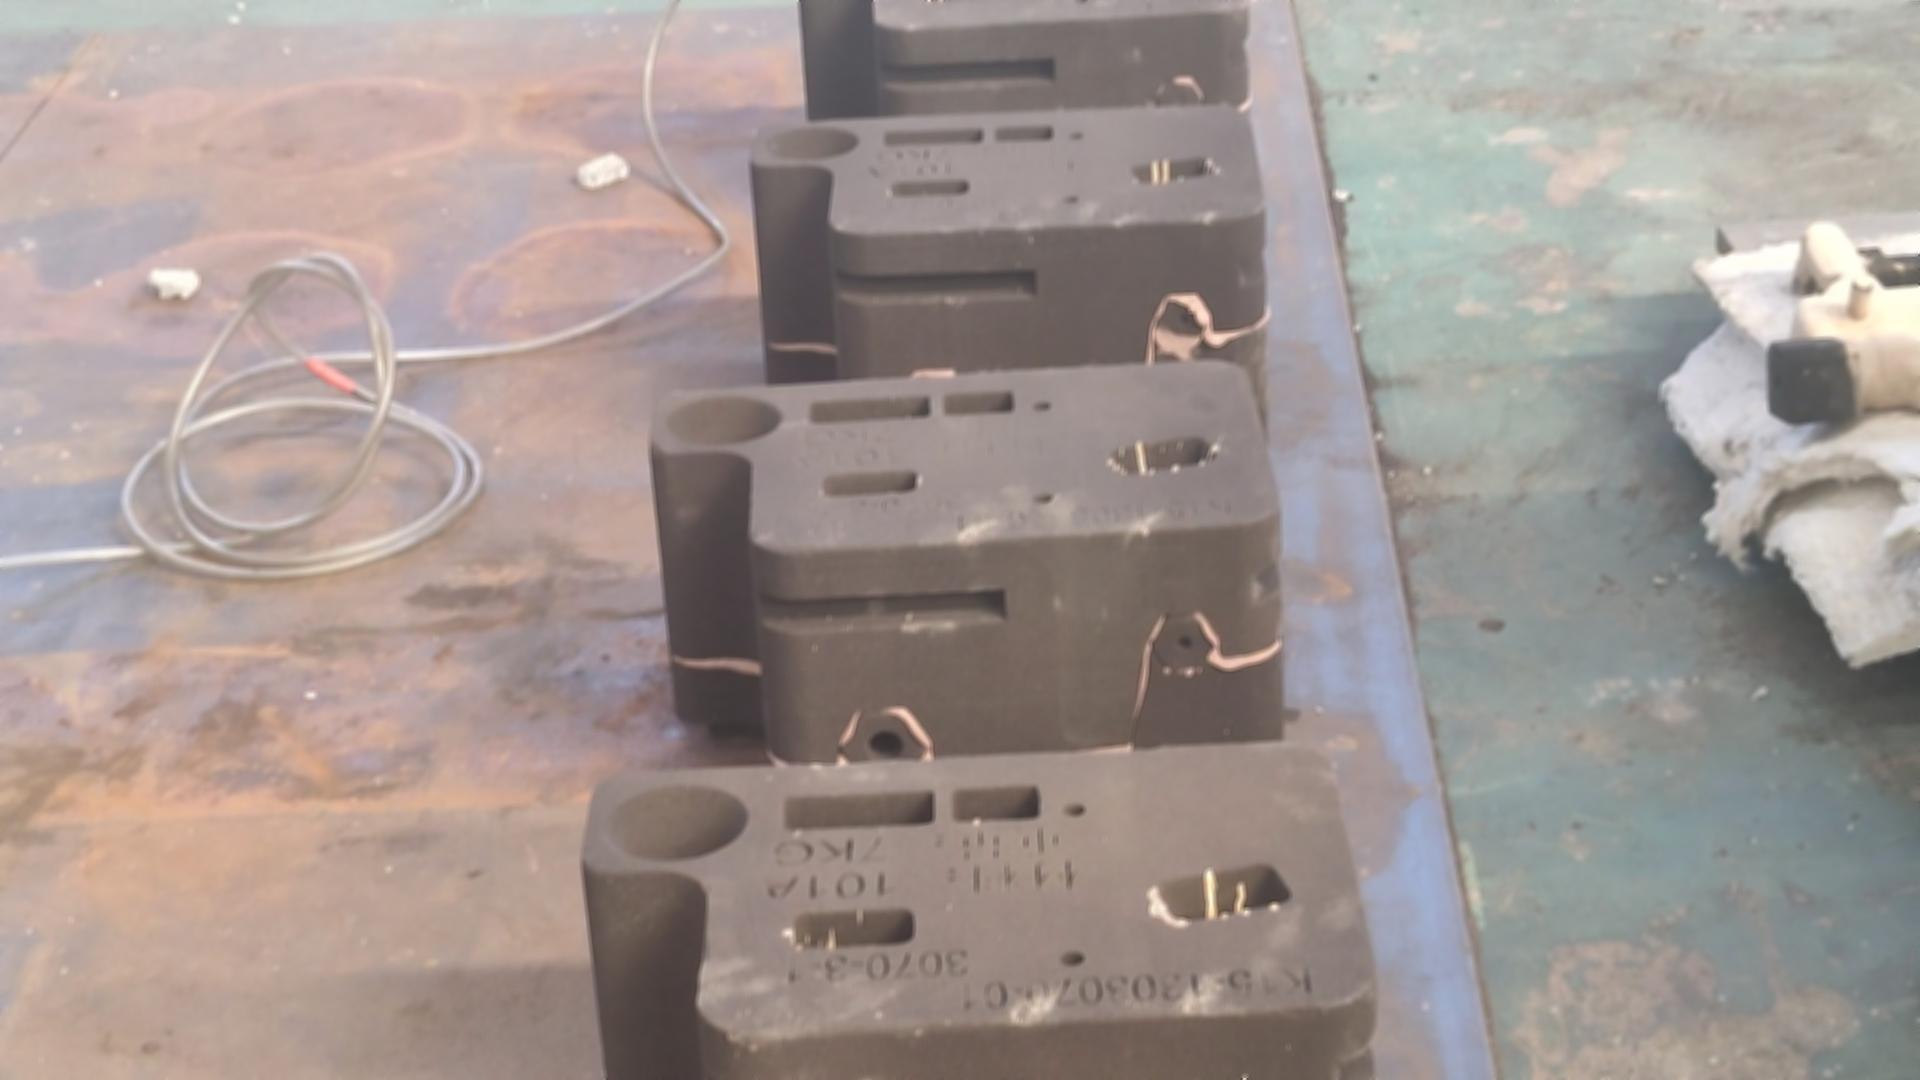pouring hole: (605, 785, 748, 862), (666, 396, 781, 440), (764, 123, 858, 160)
